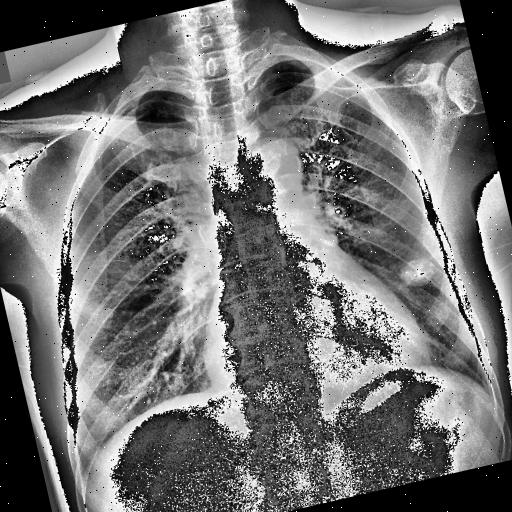0- Aortic enlargement: (236, 126, 310, 206)
3- Cardiomegaly: (188, 280, 436, 423)
8- Nodule-Mass: (395, 254, 439, 290), (396, 254, 436, 290), (398, 256, 438, 291)
